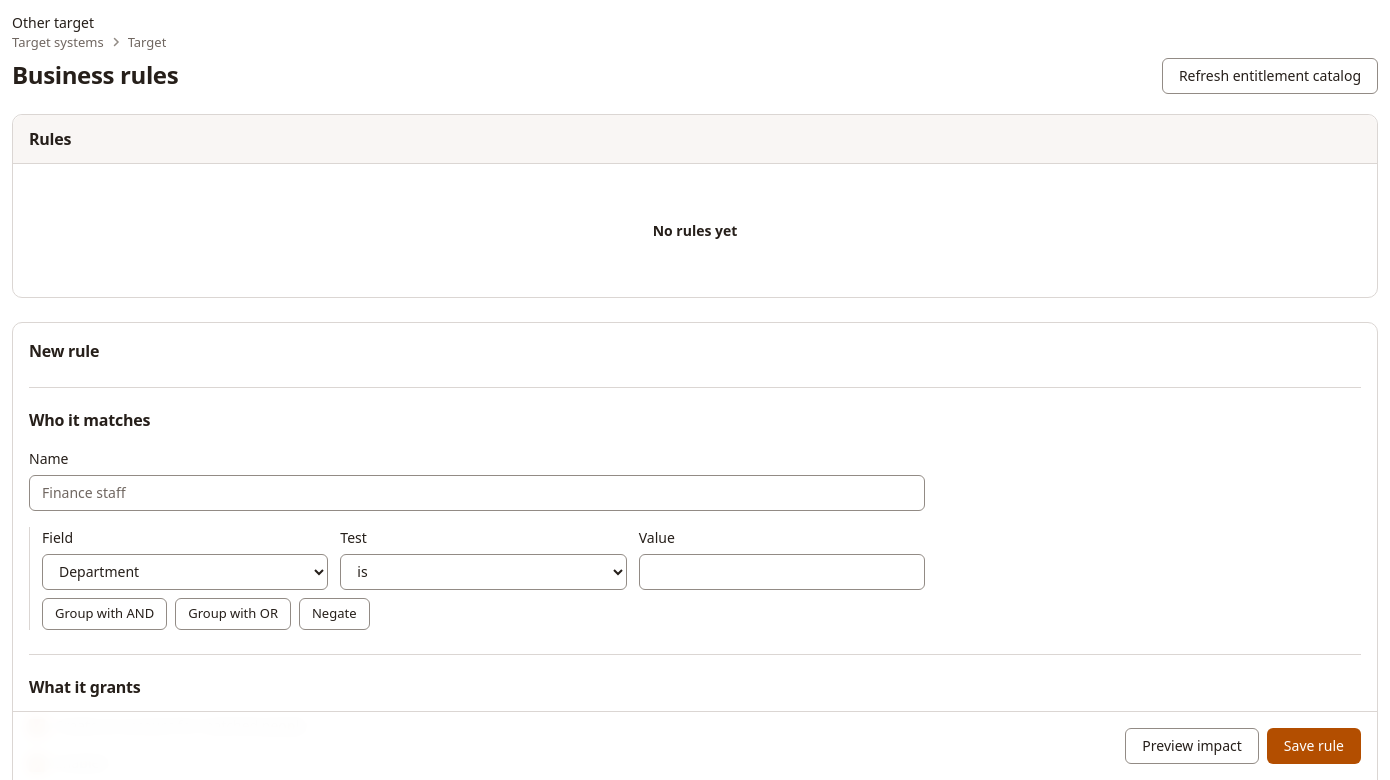
BusinessRulesPage › ignores an in-flight impact after editing (failure=false)
Click the button "Preview impact": point(1192, 746) [1125,728,1259,764]
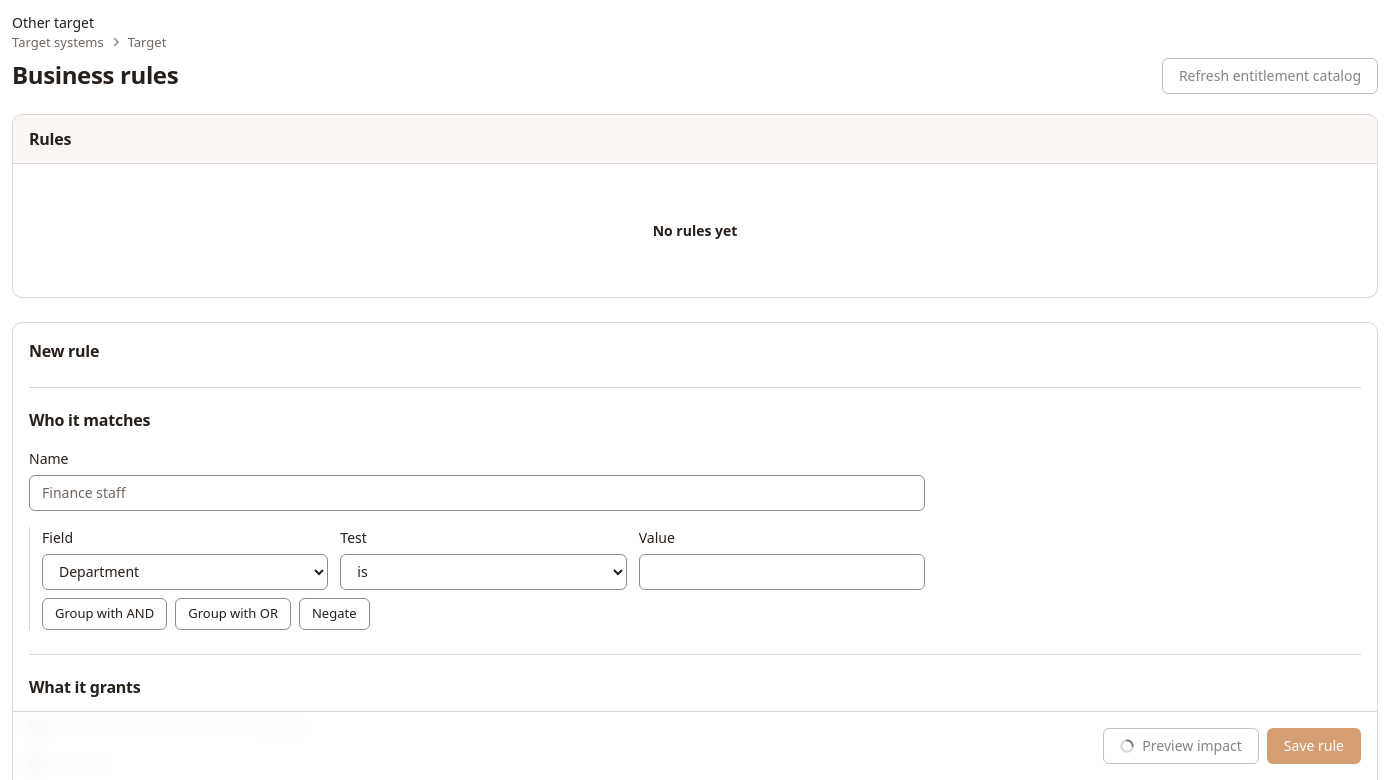
In the field labelled "Value": point(782, 572) [639,554,925,590], type "New value"
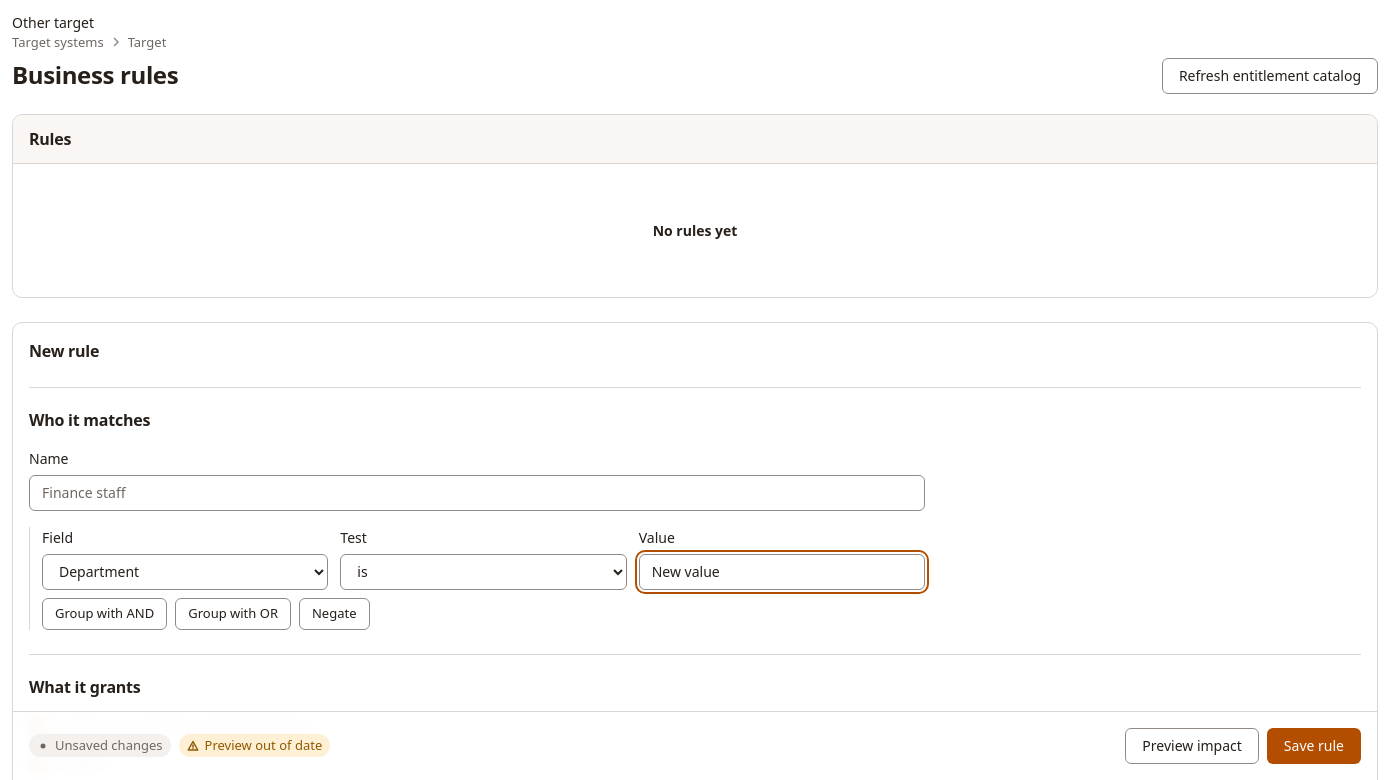
Expected: the button "Preview impact" is enabled, [1125,728,1259,764]
